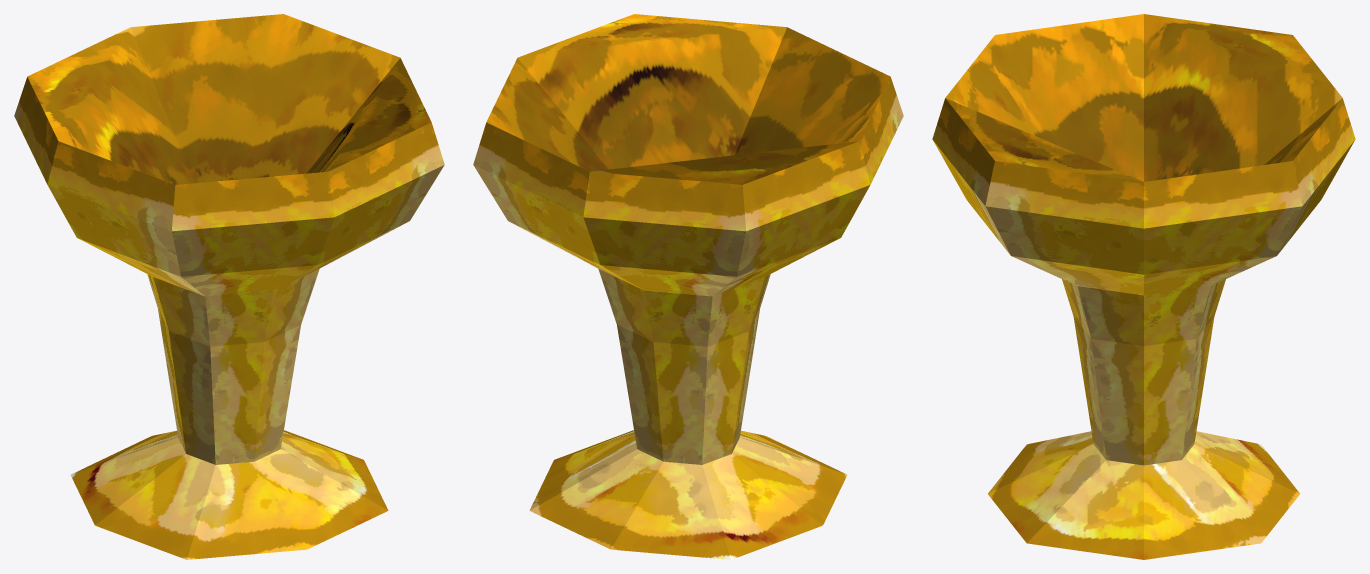
File: gobelet.fbx
3 renders of one model, left to right at view 1: azimuth 30°, elevation 25°; view 2: azimuth 150°, elevation 25°; view 3: azimuth 270°, elevation 25°, orthographic.
Parts seen in each view (by area): view 1: Cube; view 2: Cube; view 3: Cube.
Part boxes in pixels (<box>): Cube: <box>14,14,444,559</box>; Cube: <box>473,14,903,559</box>; Cube: <box>932,14,1355,559</box>.
Bounding box in the file's own units: 601 × 620 × 601.
